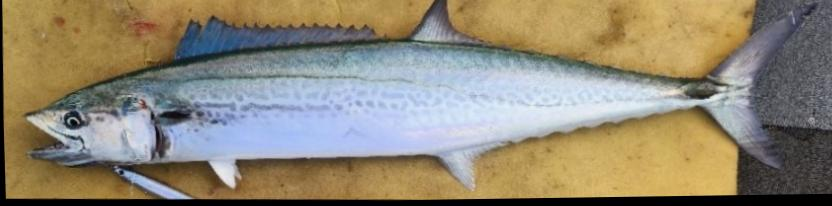fish: (22, 0, 818, 191)
